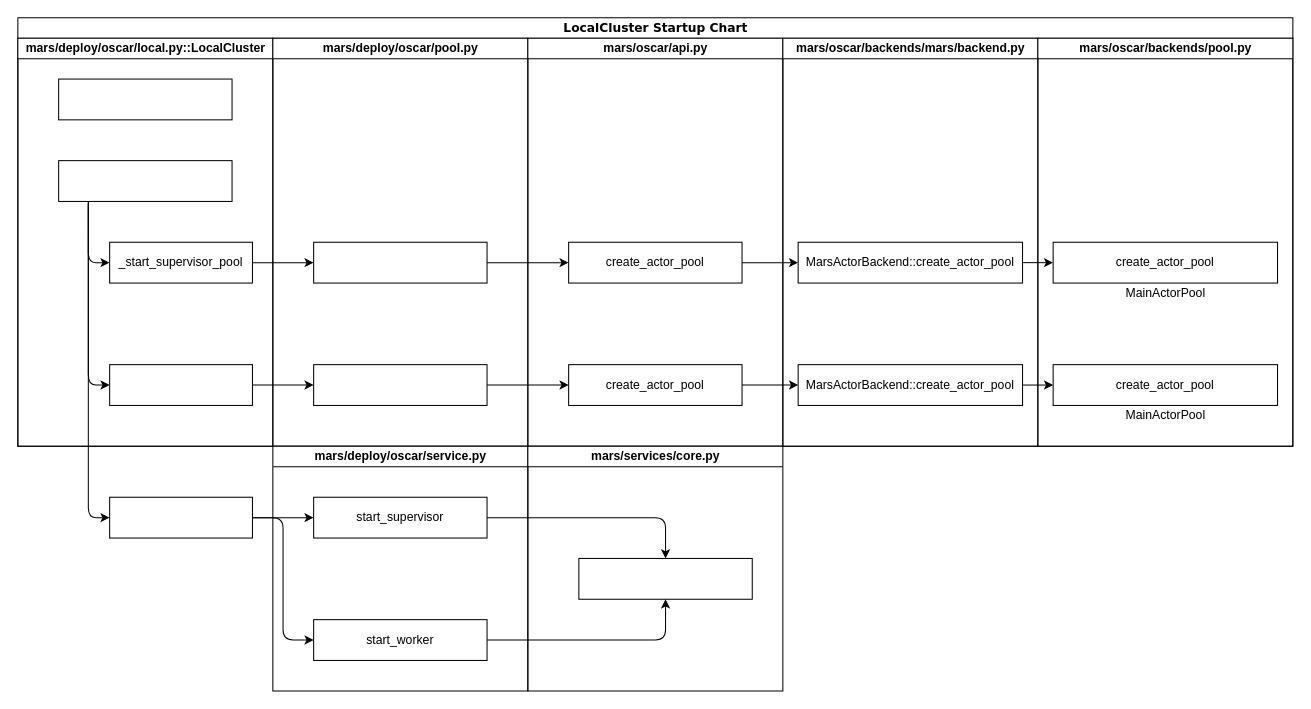
The diagram is 1311 pixels wide and 709 high, and some of its shapes have lost their labels. Each missing label, with the centre of its shape:
_start_service: point 180,517
_start_worker_pool: point 180,384
create_supervisor_actor_pool: point 400,262
create_worker_actor_pool: point 400,384
LocalCluster::__init__: point 145,99
LocalCluster::start: point 145,180
start_services: point 665,578
